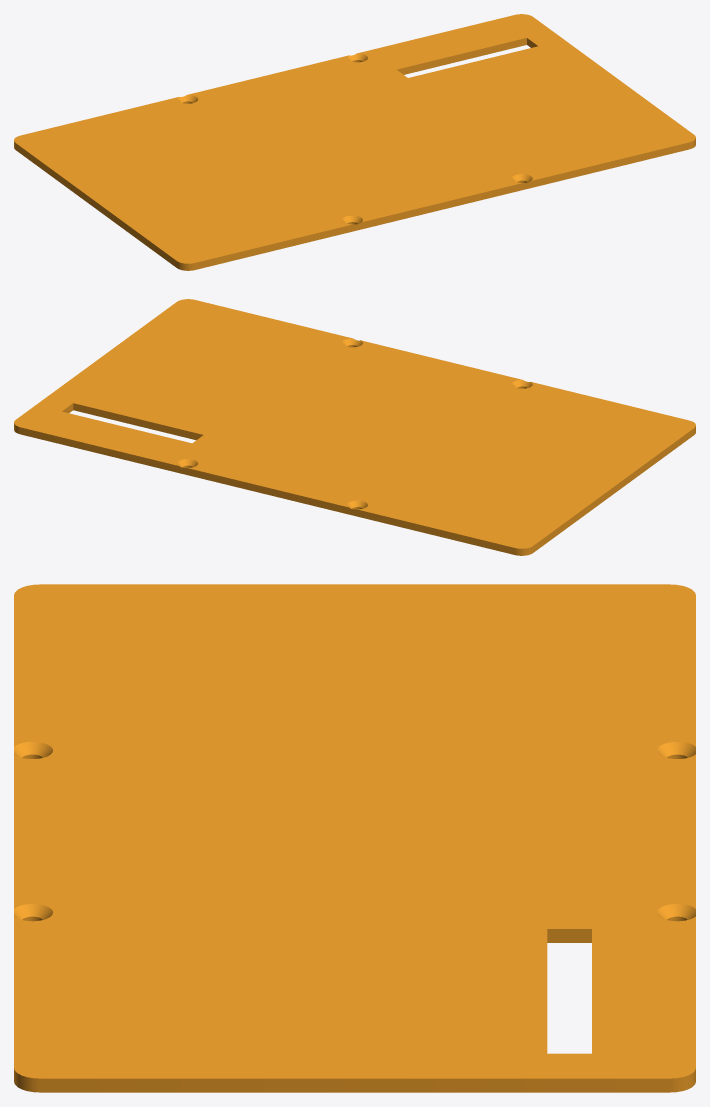
File: tapa_caja_rack.fbx
3 renders of one model, top to bottom at view 1: azimuth 30°, elevation 25°; view 2: azimuth 150°, elevation 25°; view 3: azimuth 270°, elevation 25°, orthographic. The views are drawn at different scales.
Parts seen in each view (by area): view 1: tapa_caja_rack; view 2: tapa_caja_rack; view 3: tapa_caja_rack.
Boxes of the visible parts, bbox=[...] form: tapa_caja_rack: bbox=[14, 14, 695, 270]; tapa_caja_rack: bbox=[14, 299, 695, 555]; tapa_caja_rack: bbox=[14, 584, 695, 1092].
Bounding box in the file's own units: 0.1824 × 0.0024 × 0.1064.
